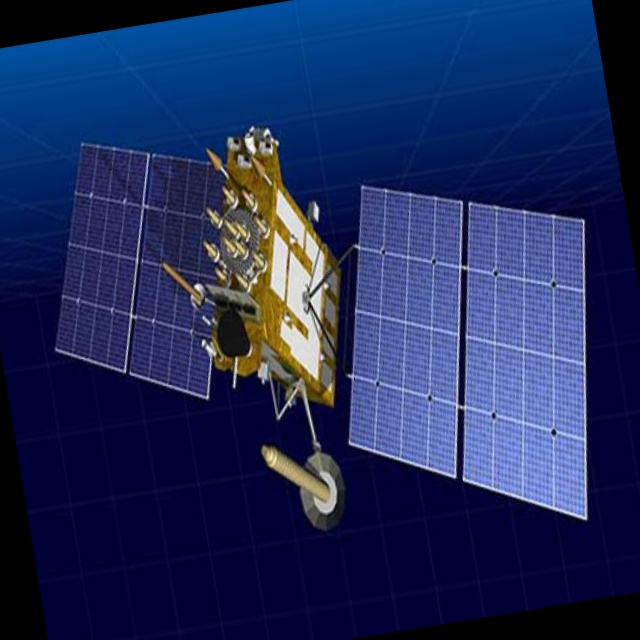medium_debris: (13, 39, 638, 609)
